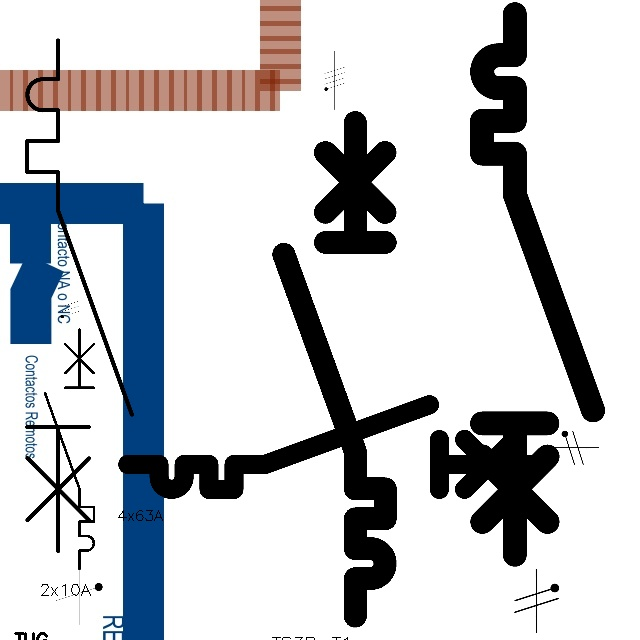interruptor_termomagnetico: (468, 0, 607, 568), (14, 27, 145, 564), (271, 109, 398, 628), (117, 394, 550, 500), (39, 323, 100, 575)
